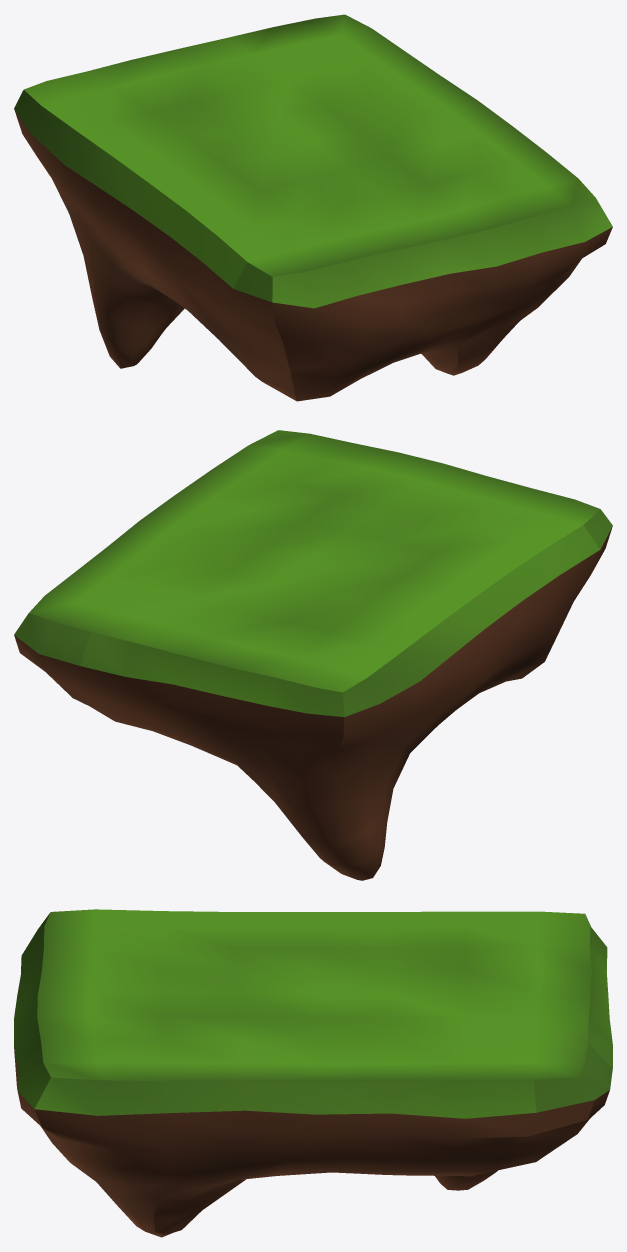
File: DirtPlatform4.fbx
The picture shows the model from 3 angles, top to bottom: view 1: azimuth 30°, elevation 25°; view 2: azimuth 150°, elevation 25°; view 3: azimuth 270°, elevation 25°; orthographic projection. The views are drawn at different scales.
Parts seen in each view (by area): view 1: DirtPlatform4; view 2: DirtPlatform4; view 3: DirtPlatform4.
Part boxes in pixels (<box>): DirtPlatform4: <box>14,14,612,401</box>; DirtPlatform4: <box>14,430,612,880</box>; DirtPlatform4: <box>14,909,612,1237</box>.
Bounding box in the file's own units: 415 × 263 × 554.
